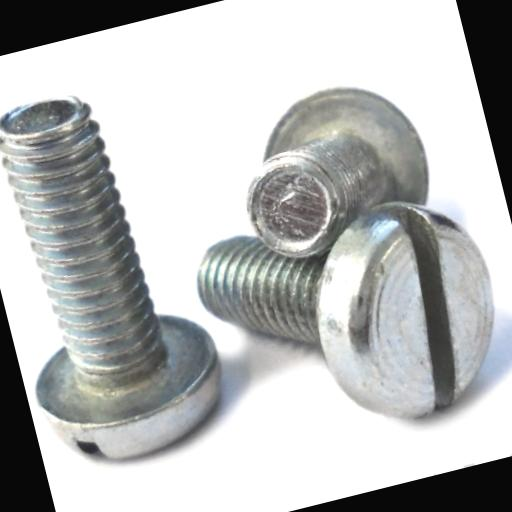Slotted: (295, 181, 512, 442)
